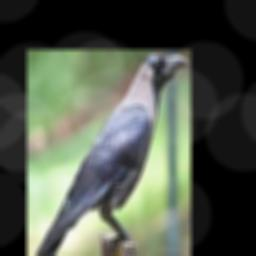Crow: (31, 54, 190, 256)
